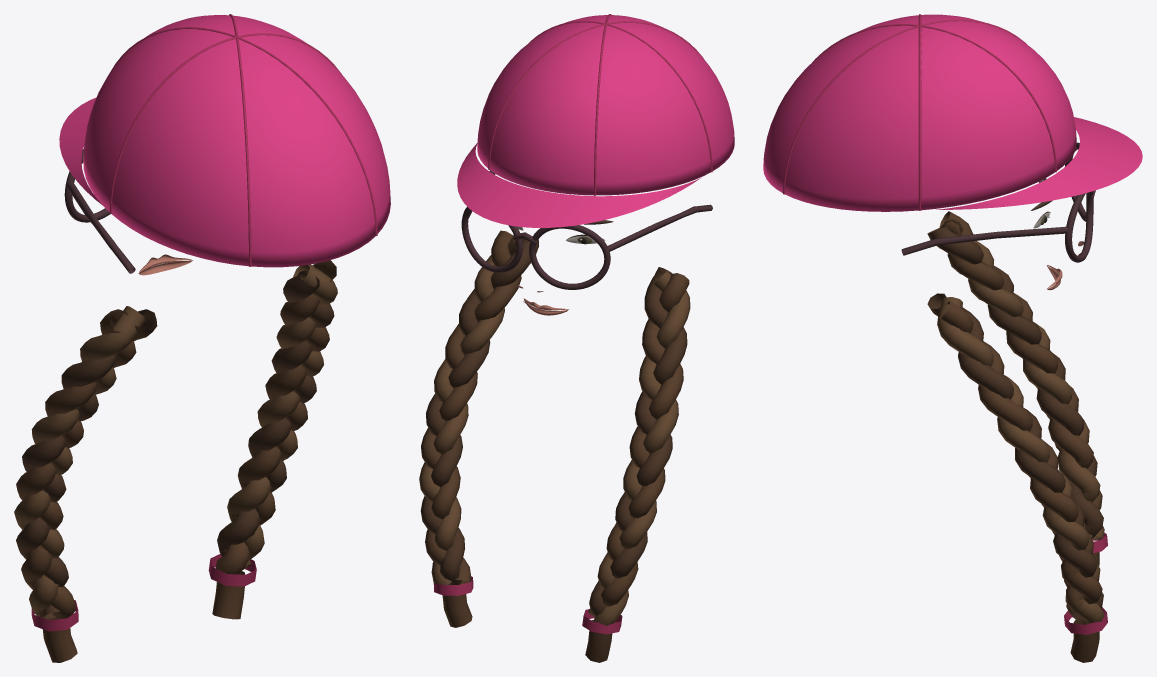
Rendered from AlmaPortrait.glb.
3 views of the same model, side by side, from view 1: azimuth 30°, elevation 25°; view 2: azimuth 150°, elevation 25°; view 3: azimuth 270°, elevation 25° (orthographic). The views are drawn at different scales.
Parts seen in each view (by area): view 1: SummerCap, Facial features.001; view 2: SummerCap, Facial features.001; view 3: SummerCap, Facial features.001.
Part boxes in pixels (x1,y1,x2,y2): SummerCap: (59,14,390,267); Facial features.001: (14,149,337,662); SummerCap: (457,14,734,227); Facial features.001: (419,170,712,662); SummerCap: (763,14,1142,211); Facial features.001: (901,142,1107,662).
Size of the model in its own units: 0.2684 by 0.6103 by 0.351.
